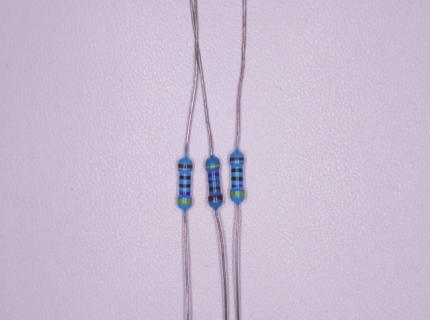Black band: (208, 179, 220, 185), (209, 186, 220, 192), (231, 168, 243, 173), (179, 175, 191, 180), (179, 183, 191, 188), (232, 176, 243, 181)
Brown band: (207, 194, 223, 202), (229, 157, 244, 162), (179, 164, 193, 169)
Violet band: (207, 172, 219, 178), (179, 191, 191, 196), (232, 184, 243, 187)
Yellow band: (205, 164, 221, 170), (177, 199, 192, 205), (231, 191, 245, 196)
